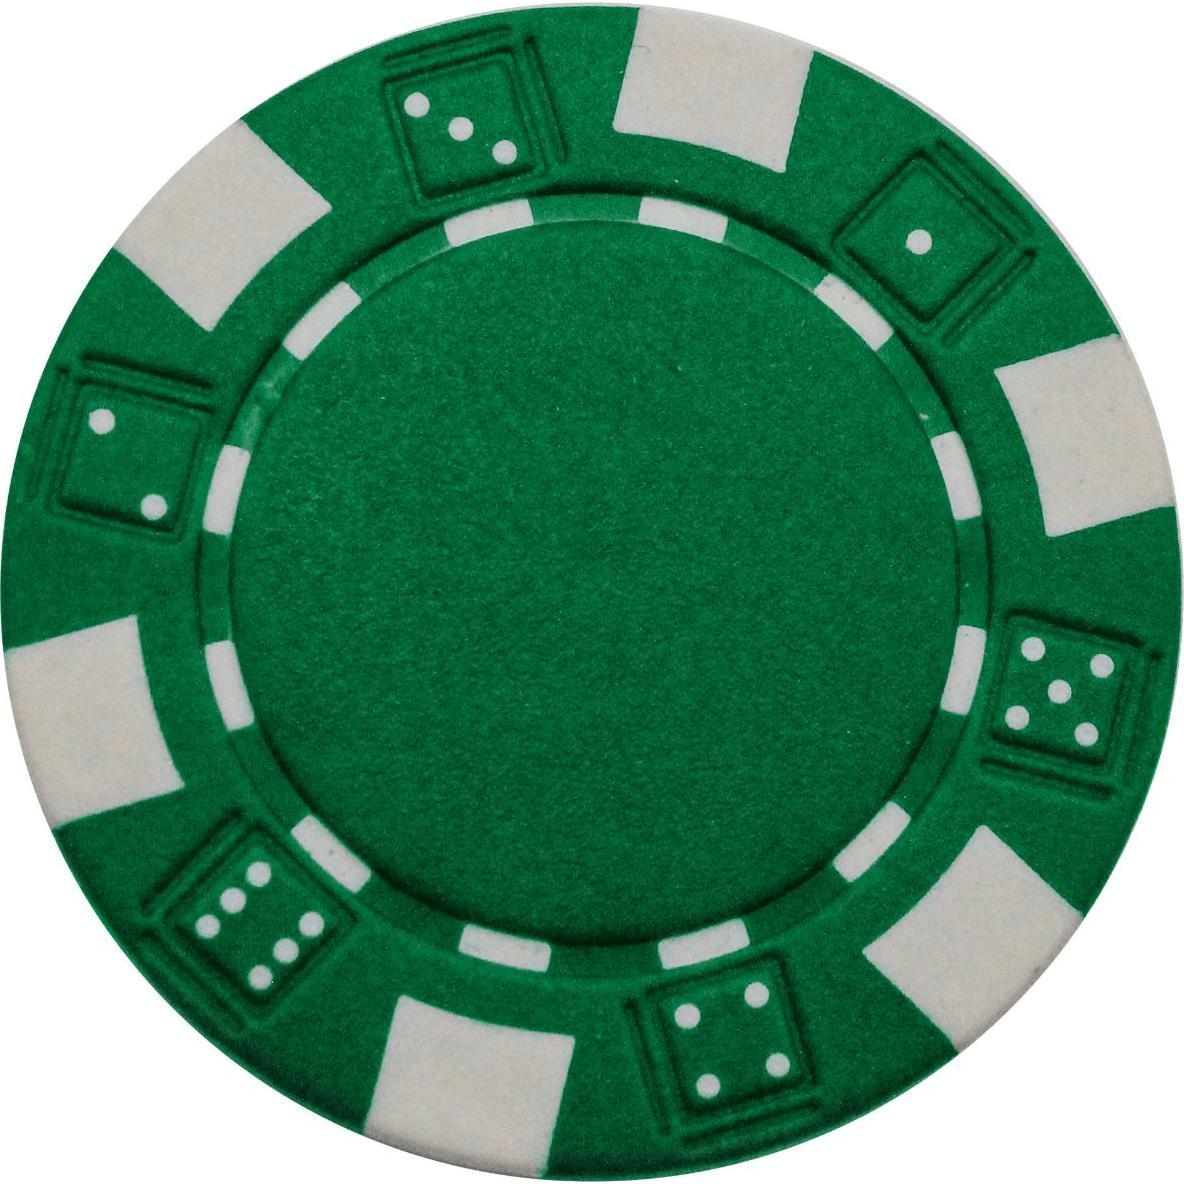chip-green: (4, 7, 1180, 1180)
